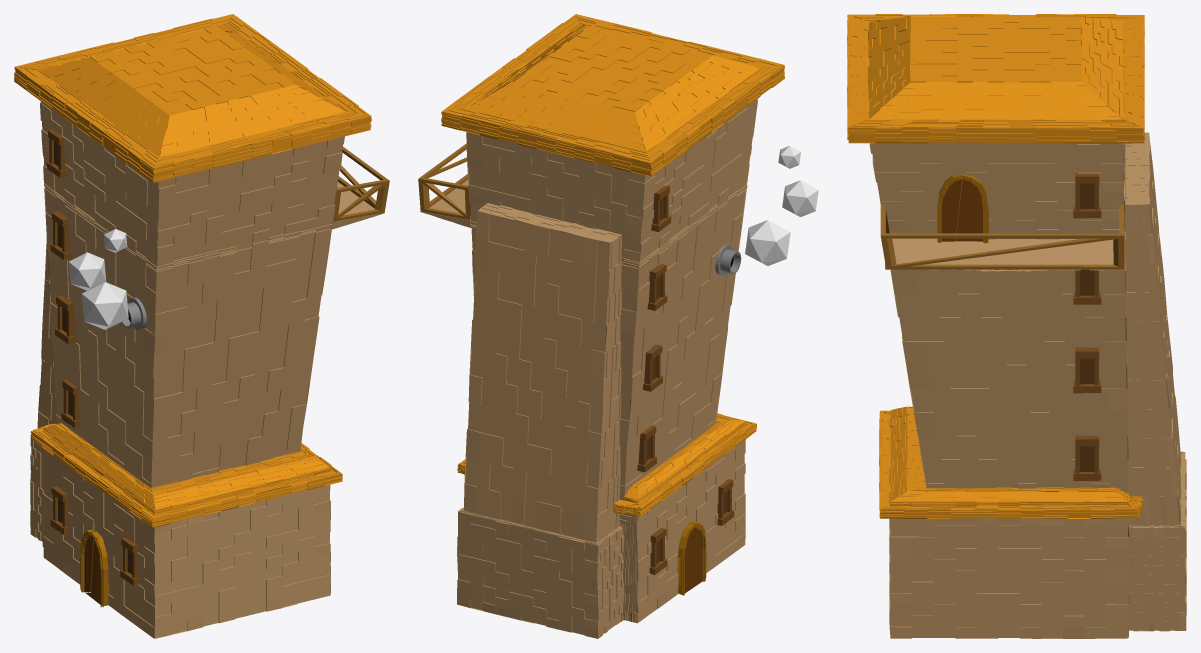
Rendered from Apartment_Building_1.fbx.
3 views of the same model, side by side, from view 1: azimuth 30°, elevation 25°; view 2: azimuth 150°, elevation 25°; view 3: azimuth 270°, elevation 25° (orthographic). The views are drawn at different scales.
Parts seen in each view (by area): view 1: Cube.455, Cube.466, Icosphere.057, Icosphere.058, Cube.458, Cube.459, Cube.457, Cube.465, Cube.456, Cube.467, Cylinder.847; view 2: Cube.455, Cube.466, Icosphere.057, Icosphere.058, Cube.458, Cube.459, Cube.457, Cube.465, Cube.456, Cylinder.847, Cube.467; view 3: Cube.455, Cube.473, Cube.470, Cube.471, Cube.468, Cube.469.
Boxes of the visible parts, <box> form: Cube.455: <box>14,14,389,638</box>; Cube.466: <box>80,529,109,607</box>; Icosphere.057: <box>81,282,128,329</box>; Icosphere.058: <box>68,252,106,290</box>; Cube.458: <box>55,295,76,344</box>; Cube.459: <box>50,211,72,259</box>; Cube.457: <box>61,379,80,428</box>; Cube.465: <box>47,129,67,177</box>; Cube.456: <box>50,486,68,534</box>; Cube.467: <box>120,537,138,585</box>; Cylinder.847: <box>121,297,146,329</box>; Cube.455: <box>418,14,784,638</box>; Cube.466: <box>677,521,706,595</box>; Icosphere.057: <box>745,220,790,265</box>; Icosphere.058: <box>782,180,818,216</box>; Cube.458: <box>643,344,662,391</box>; Cube.459: <box>647,264,667,310</box>; Cube.457: <box>637,425,656,472</box>; Cube.465: <box>651,185,670,231</box>; Cube.456: <box>649,528,667,574</box>; Cylinder.847: <box>715,244,741,275</box>; Cube.467: <box>717,479,734,525</box>; Cube.455: <box>847,14,1186,638</box>; Cube.473: <box>937,174,988,243</box>; Cube.470: <box>1073,347,1101,393</box>; Cube.471: <box>1073,435,1101,480</box>; Cube.468: <box>1073,173,1101,218</box>; Cube.469: <box>1073,269,1101,304</box>.
Size of the model in its own units: 1342 by 2128 by 1196.
